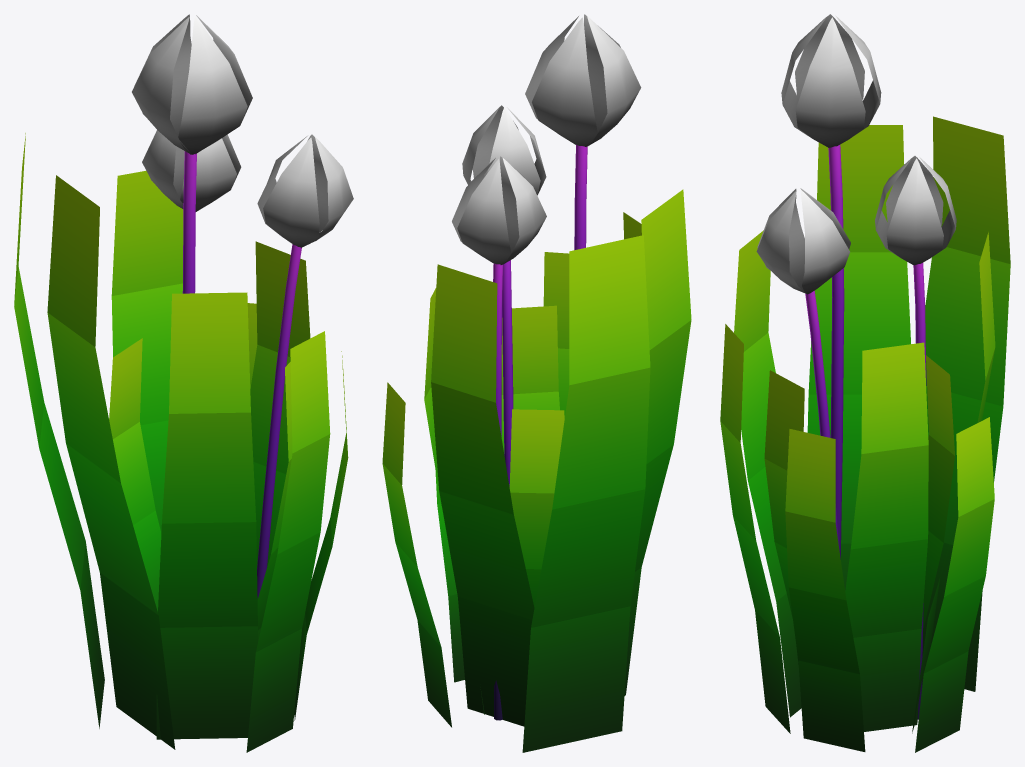
The model's file is flowers2Plane_081.fbx.
3 renders of one model, left to right at view 1: azimuth 30°, elevation 25°; view 2: azimuth 150°, elevation 25°; view 3: azimuth 270°, elevation 25°, orthographic. The views are drawn at different scales.
Parts seen in each view (by area): view 1: Plane.081; view 2: Plane.081; view 3: Plane.081.
Part boxes in pixels (left/top/right/bottom): Plane.081: left=14, top=14, right=353, bottom=752; Plane.081: left=382, top=14, right=691, bottom=752; Plane.081: left=720, top=14, right=1010, bottom=752.
Bounding box in the file's own units: 60.43 × 148 × 56.97.
